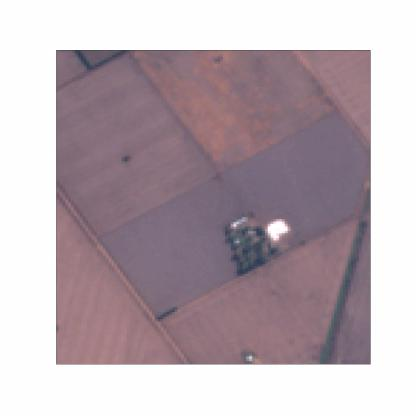silobolsa: (266, 216, 292, 242), (230, 214, 252, 228)
